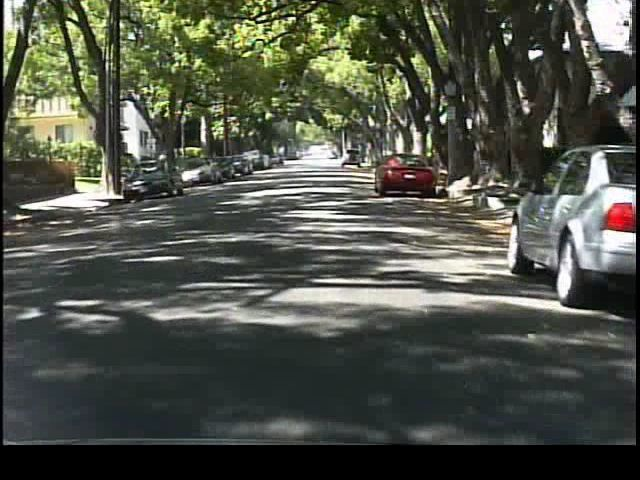person: (156, 148, 176, 186)
